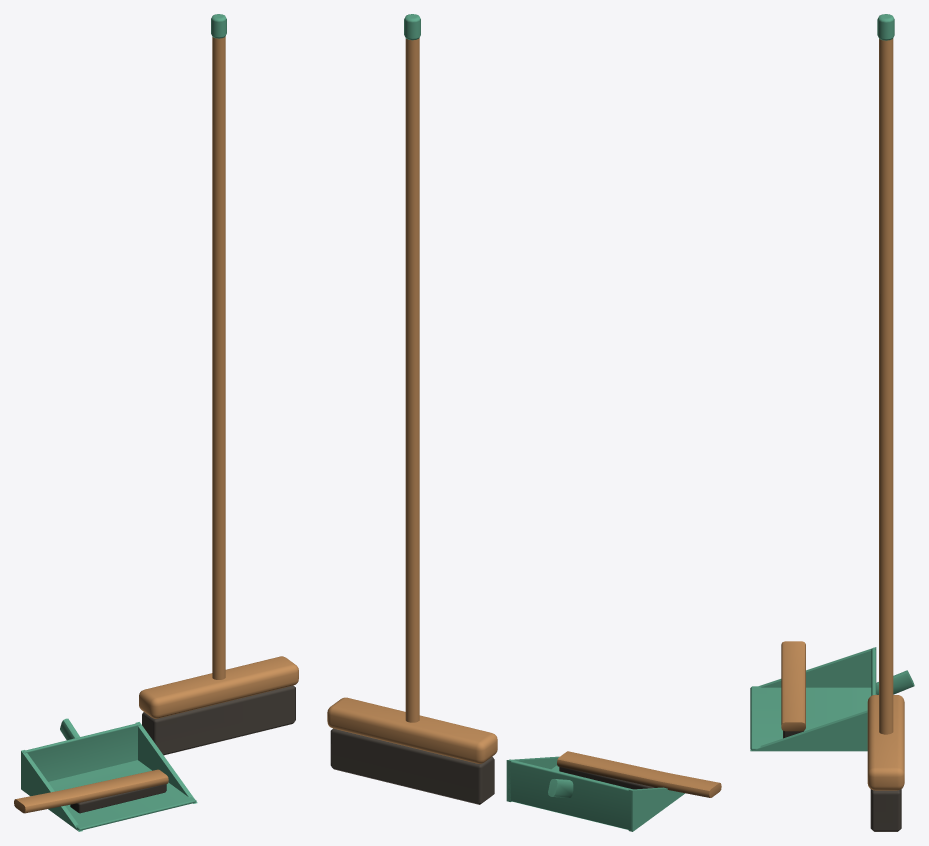
The model's file is broomDustpan.glb.
The picture shows the model from 3 angles, left to right: view 1: azimuth 30°, elevation 25°; view 2: azimuth 150°, elevation 25°; view 3: azimuth 270°, elevation 25°; orthographic projection. The views are drawn at different scales.
Parts seen in each view (by area): view 1: broom, body; view 2: broom, body; view 3: broom, body.
Boxes of the visible parts, left/top/right/bottom form: broom: left=139, top=14, right=298, bottom=755; body: left=14, top=718, right=197, bottom=831; broom: left=327, top=14, right=497, bottom=804; body: left=506, top=751, right=721, bottom=831; broom: left=867, top=14, right=904, bottom=831; body: left=750, top=641, right=914, bottom=751.
Size of the model in its own units: 0.6404 by 1.39 by 0.2661.
